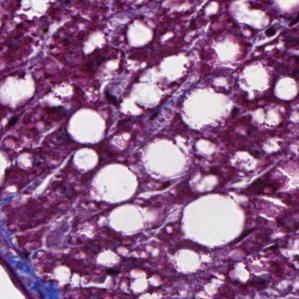steatosis: (180, 194, 249, 246)
